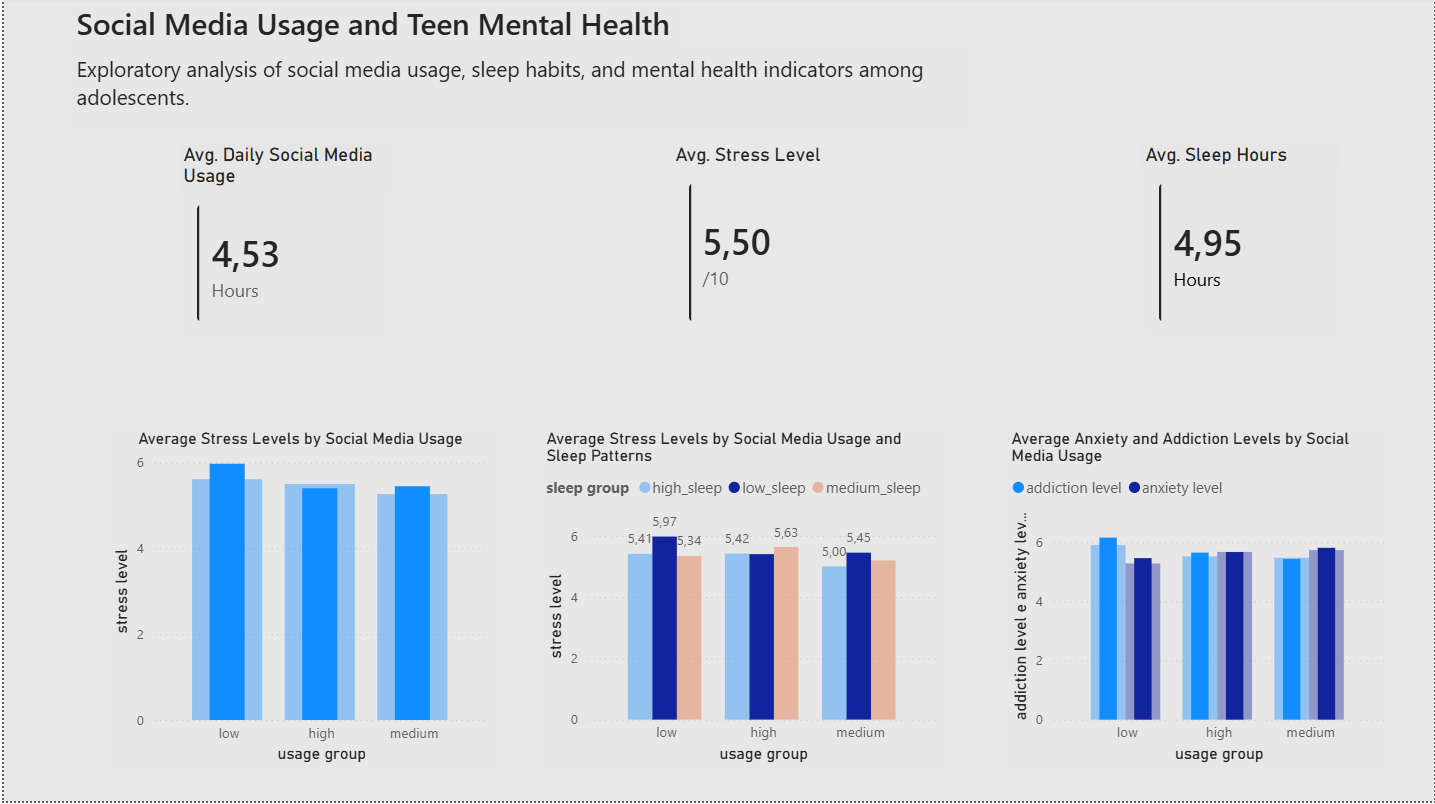

Layout of this report page (visuals, bound fields, positions):
{"tool":"powerbi","page":{"name":"Página 1","canvas":[1280,720],"ordinal":0},"visuals":[{"type":"cardVisual","title":"Avg. Daily Social Media Usage","fields":{"Data":["Avg(Teen_Mental_Health_Dataset.daily_hours)"]},"box":[155.8,130.7,193.4,177.3],"z":0},{"type":"cardVisual","title":"Avg. Stress Level","fields":{"Data":["Avg(Teen_Mental_Health_Dataset.stress_level)"]},"box":[596.4,130.7,175.5,177.3],"z":1000},{"type":"cardVisual","title":"Avg. Sleep Hours","fields":{"Data":["Avg(Teen_Mental_Health_Dataset.sleep_hours_fixed)"]},"box":[1017.3,130.7,180,177.3],"z":2000},{"type":"clusteredColumnChart","title":"Average Stress Levels by Social Media Usage","fields":{"Category":["Teen_Mental_Health_Dataset.usage_group"],"Y":["Avg(Teen_Mental_Health_Dataset.stress_level)"]},"box":[92.2,386.9,346.6,303.6],"z":3000},{"type":"clusteredColumnChart","title":"Average Stress Levels by Social Media Usage and Sleep Patterns","fields":{"Category":["Teen_Mental_Health_Dataset.usage_group"],"Series":["Teen_Mental_Health_Dataset.sleep_group"],"Y":["Avg(Teen_Mental_Health_Dataset.stress_level)"]},"box":[480.9,386.9,360.9,303.6],"z":4000},{"type":"clusteredColumnChart","title":"Average Anxiety and Addiction Levels by Social Media Usage","fields":{"Category":["Teen_Mental_Health_Dataset.usage_group"],"Y":["Avg(Teen_Mental_Health_Dataset.addiction_level)","Avg(Teen_Mental_Health_Dataset.anxiety_level)"]},"box":[897.3,386.9,343.9,303.6],"z":5000},{"type":"textbox","box":[60,0,547.2,46.6],"z":6000},{"type":"textbox","box":[60,46.6,808.7,74.3],"z":7000}]}

Visuals, with their boxes in screenshot pixels (x1, y1, x2, y2), scaled from the page's 1280x720 canvas onto the 1435x804 screenshot:
"Avg. Daily Social Media Usage" cardVisual: left=175, top=146, right=391, bottom=344
"Avg. Stress Level" cardVisual: left=669, top=146, right=865, bottom=344
"Avg. Sleep Hours" cardVisual: left=1140, top=146, right=1342, bottom=344
"Average Stress Levels by Social Media Usage" clusteredColumnChart: left=103, top=432, right=492, bottom=771
"Average Stress Levels by Social Media Usage and Sleep Patterns" clusteredColumnChart: left=539, top=432, right=944, bottom=771
"Average Anxiety and Addiction Levels by Social Media Usage" clusteredColumnChart: left=1006, top=432, right=1392, bottom=771
textbox: left=67, top=0, right=681, bottom=52
textbox: left=67, top=52, right=974, bottom=135
